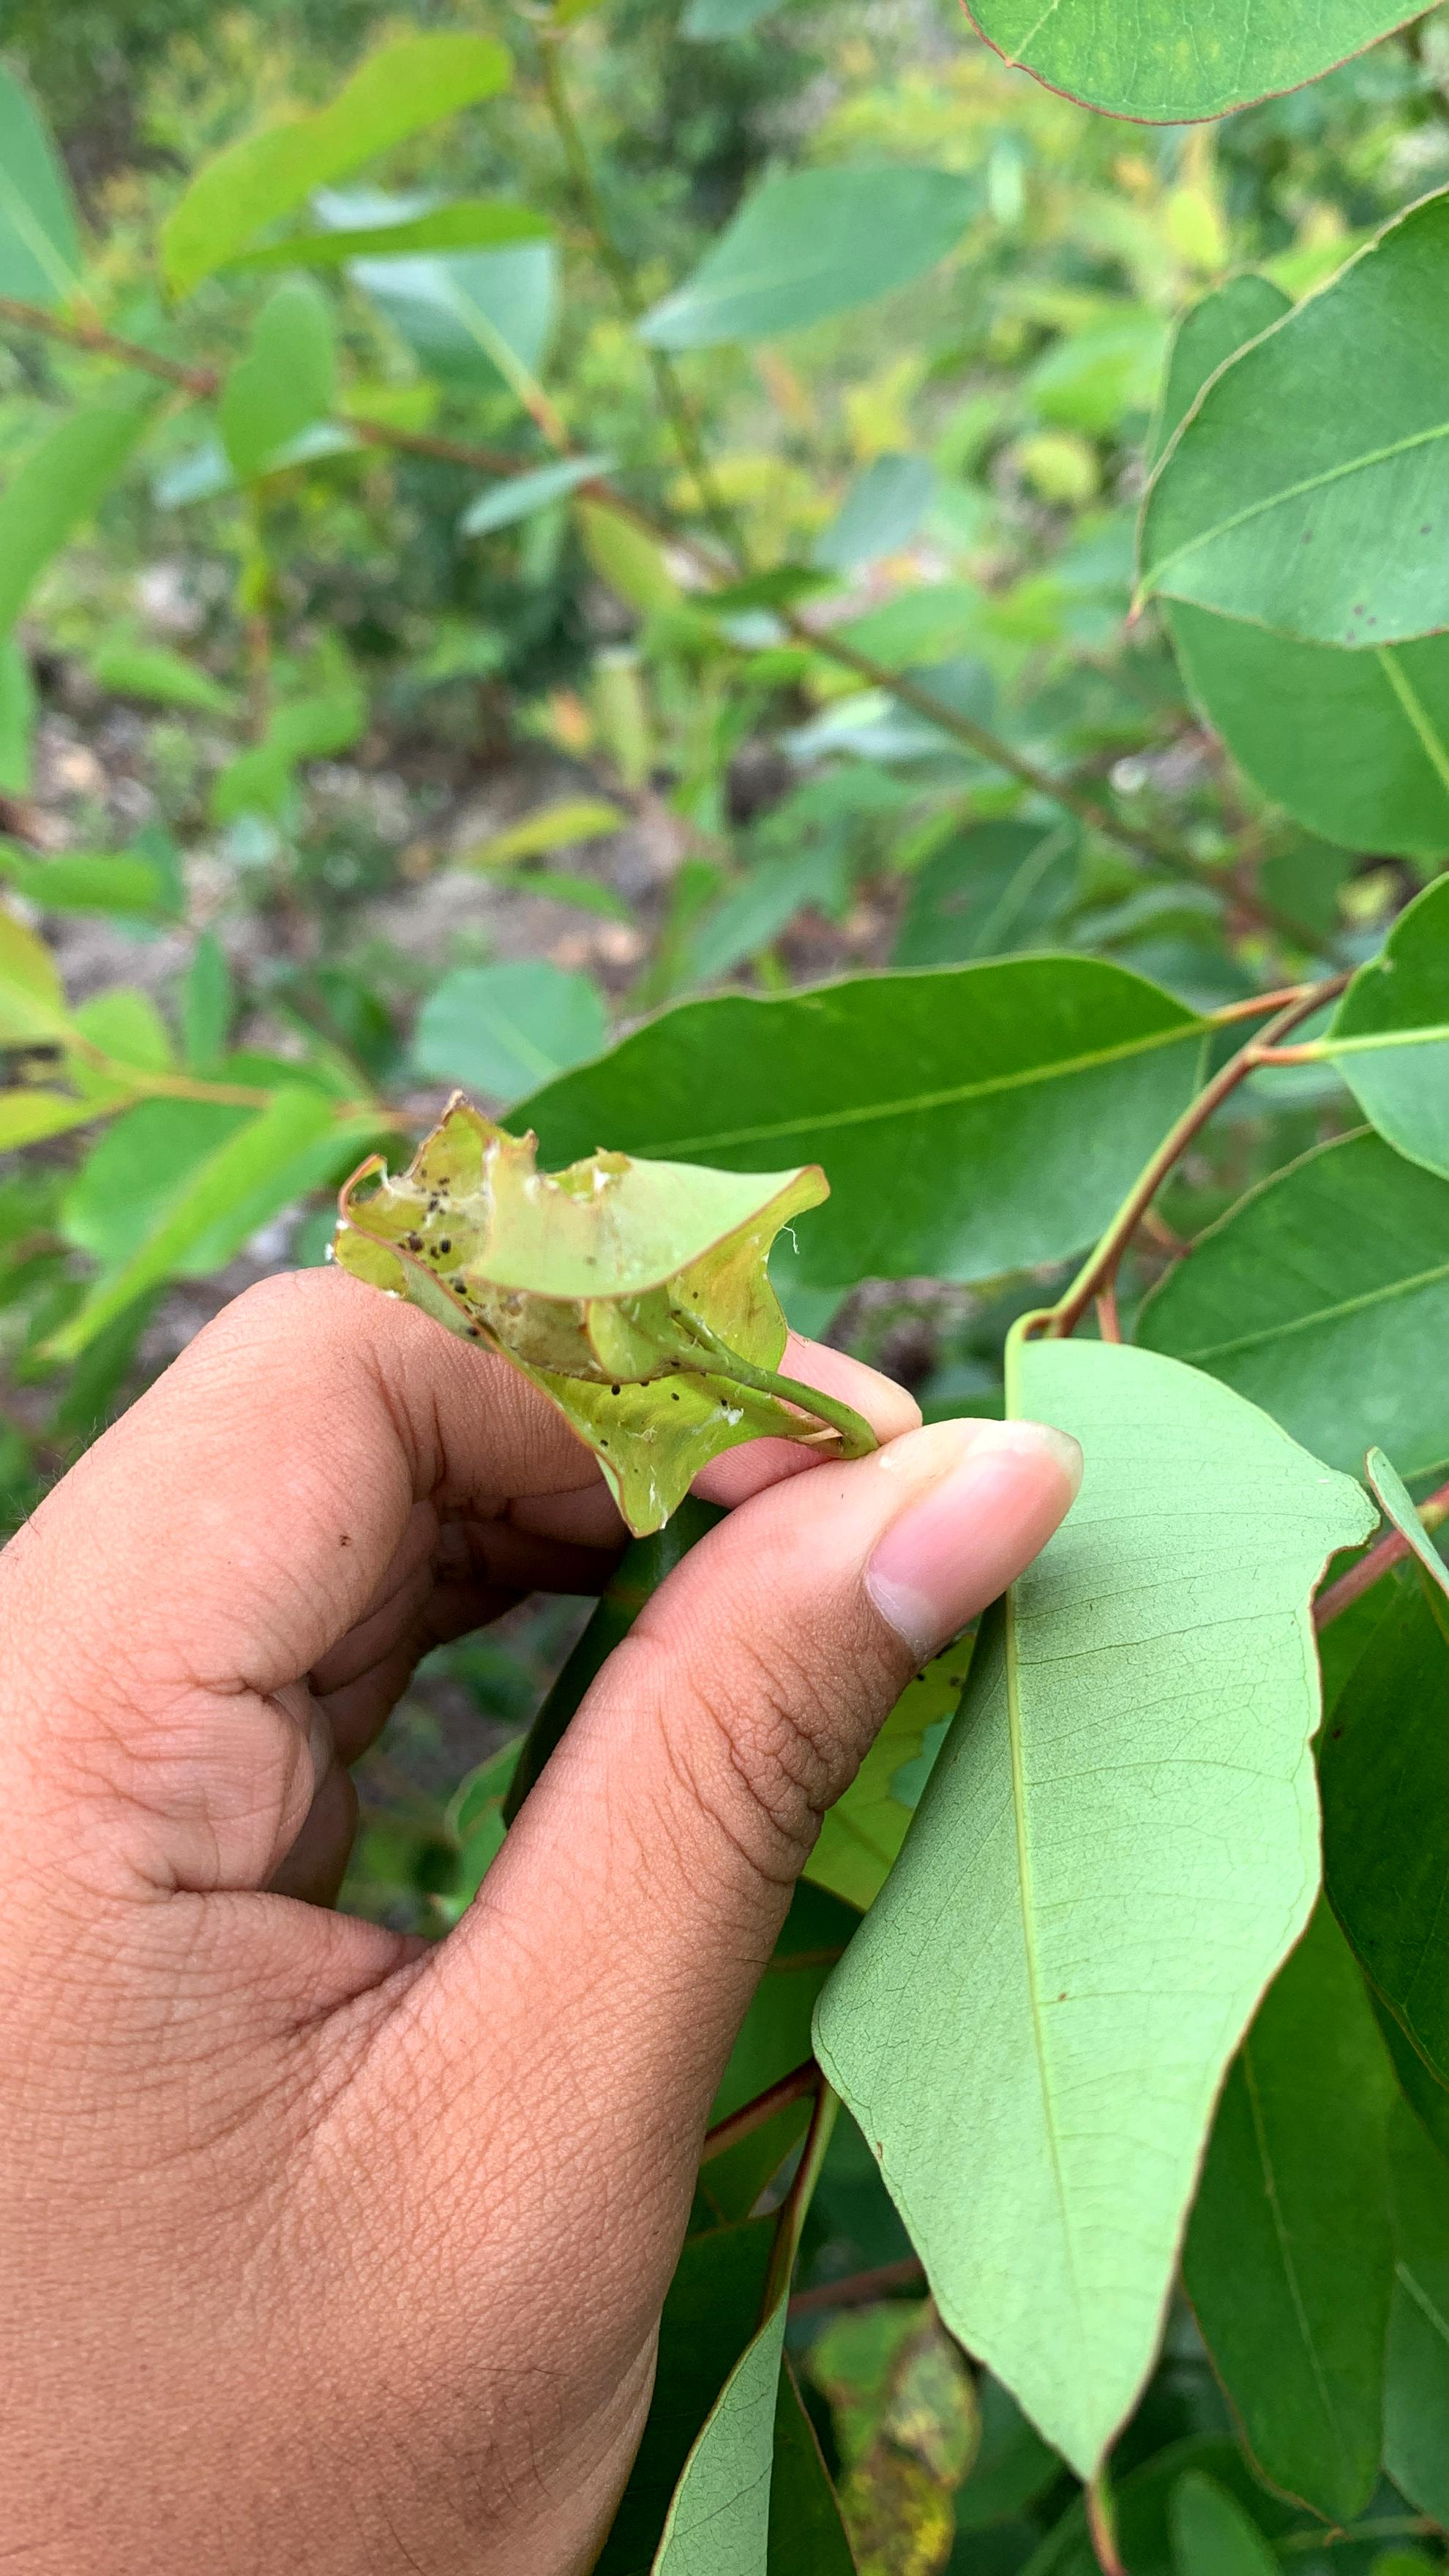Leaf Roller - Leaf: (272, 1040, 869, 1571)
